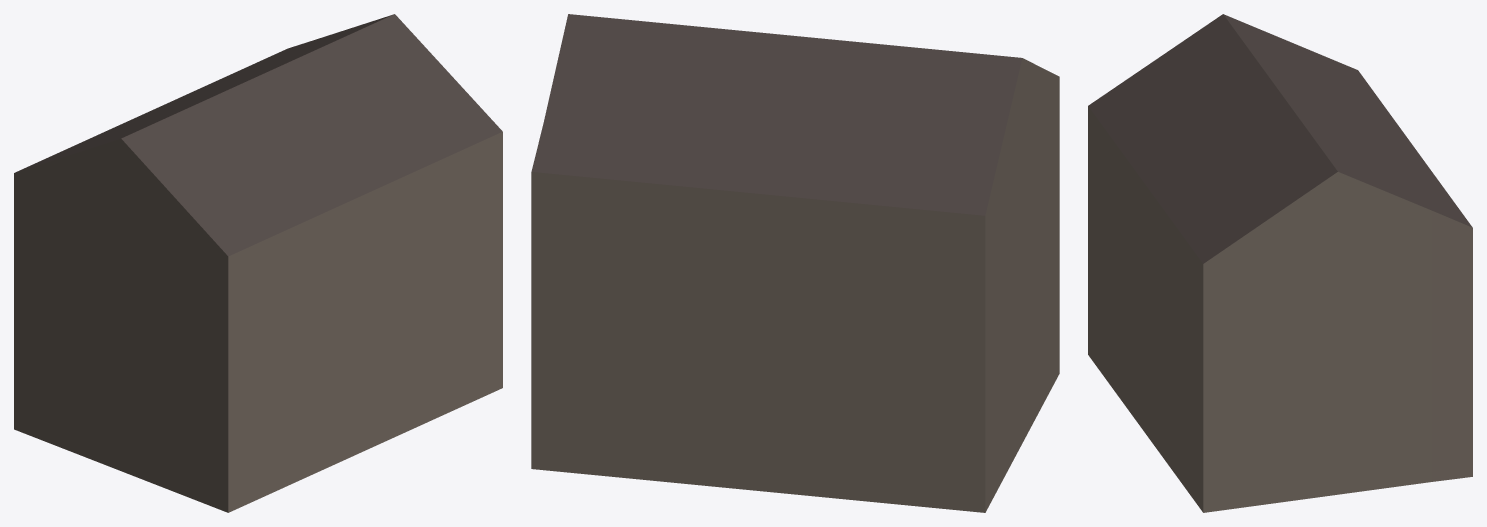
The picture shows the model from 3 angles, left to right: view 1: azimuth 30°, elevation 25°; view 2: azimuth 150°, elevation 25°; view 3: azimuth 270°, elevation 25°; orthographic projection. The views are drawn at different scales.
Parts seen in each view (by area): view 1: HP-w1198645102; view 2: HP-w1198645102; view 3: HP-w1198645102.
Boxes of the visible parts, bbox=[...] form: HP-w1198645102: bbox=[14, 14, 502, 512]; HP-w1198645102: bbox=[531, 14, 1059, 512]; HP-w1198645102: bbox=[1088, 14, 1472, 512].
Size of the model in its own units: 10.01 by 7.78 by 8.4.
